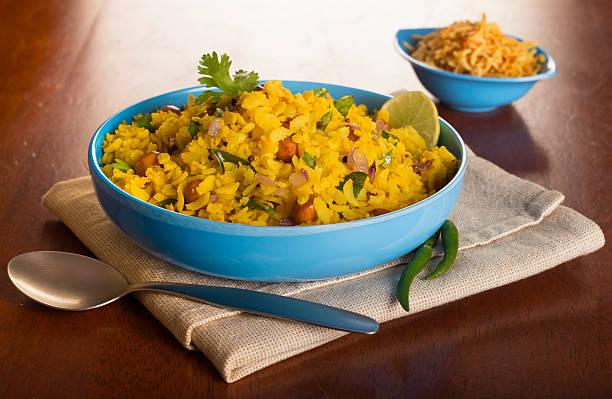omelette: (106, 77, 456, 242)
